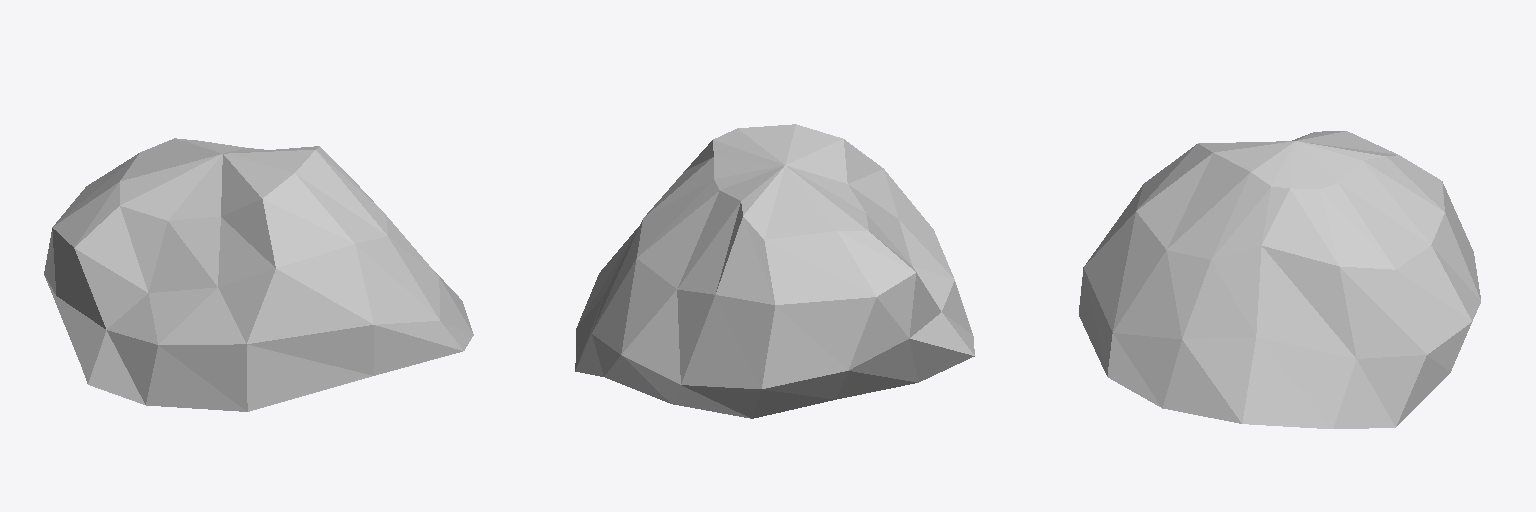
File: ivy_rock.obj
3 views of the same model, side by side, from view 1: azimuth 30°, elevation 25°; view 2: azimuth 150°, elevation 25°; view 3: azimuth 270°, elevation 25° (orthographic).
Parts seen in each view (by area): view 1: Sphere; view 2: Sphere; view 3: Sphere.
Boxes of the visible parts, box(x1,y1,x2,y2) form: Sphere: box(44, 138, 473, 411); Sphere: box(575, 124, 974, 418); Sphere: box(1079, 131, 1480, 428).
Size of the model in its own units: 1.82 by 0.9838 by 1.69.